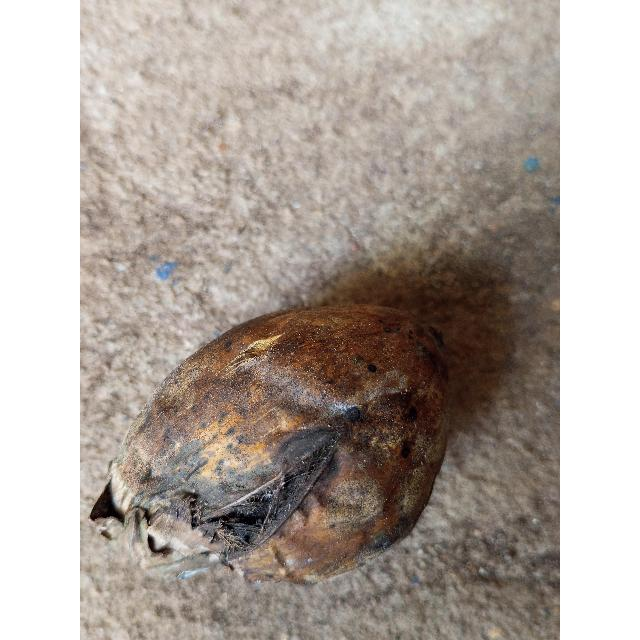damaged: (92, 299, 454, 586)
